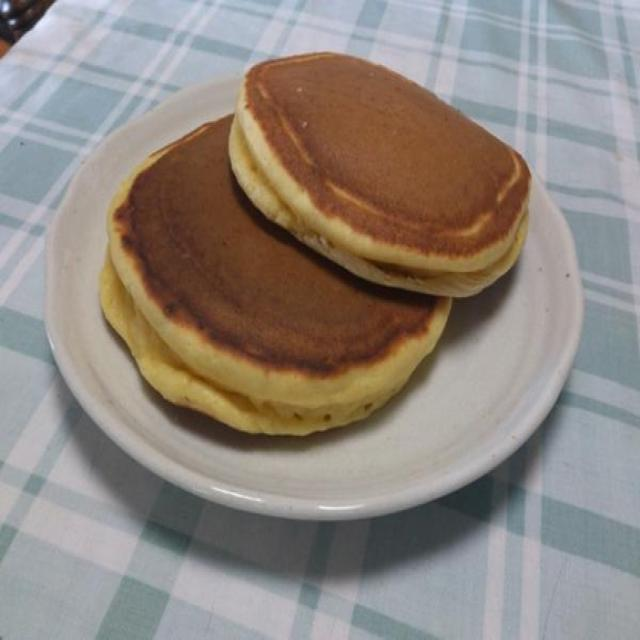面条主食: (8, 97, 640, 588)
